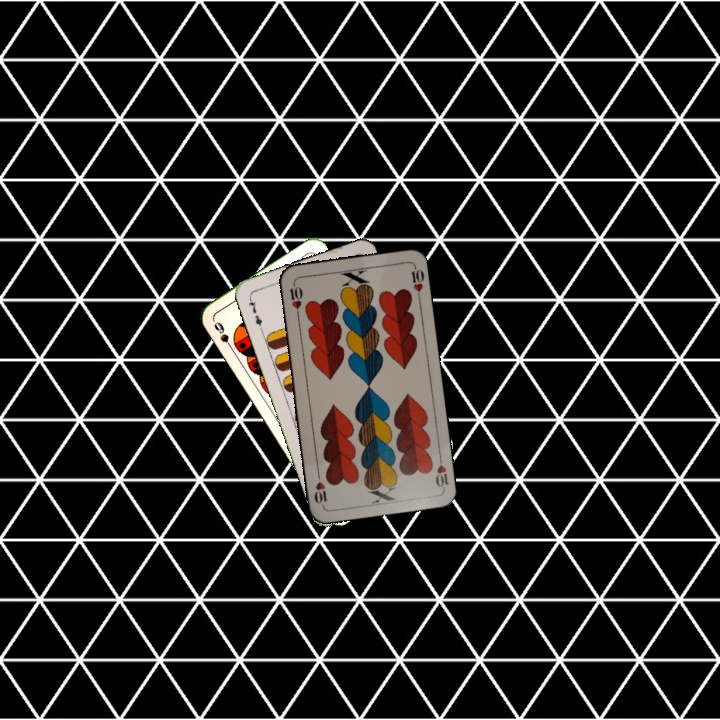E7: (245, 293, 265, 333)
H10: (285, 279, 305, 320), (431, 451, 451, 491)
S9: (209, 317, 241, 353)
